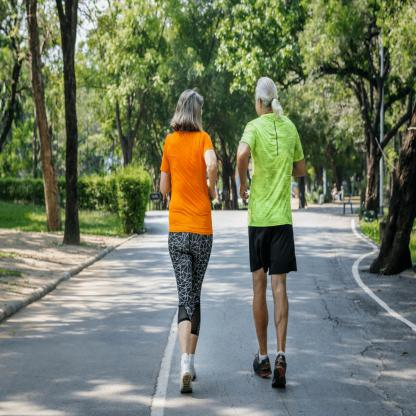person: (236, 75, 307, 392), (159, 90, 218, 394)
